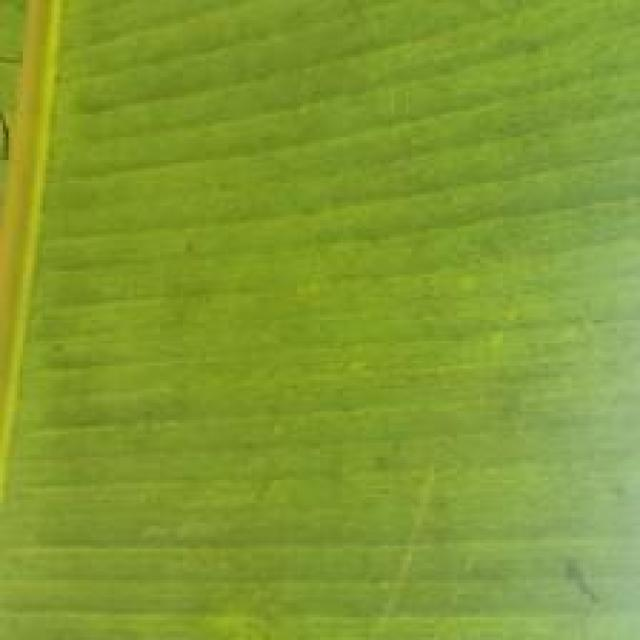Black_leaf_spot: (0, 0, 600, 582)
